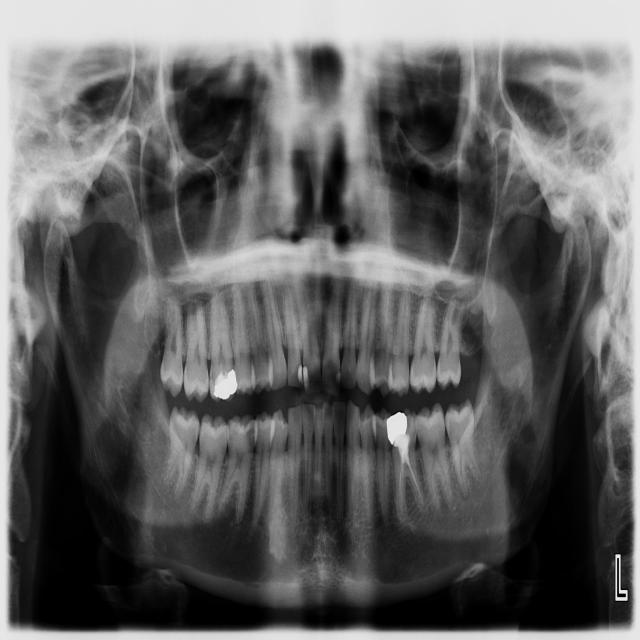mandibula: (42, 211, 593, 610)
